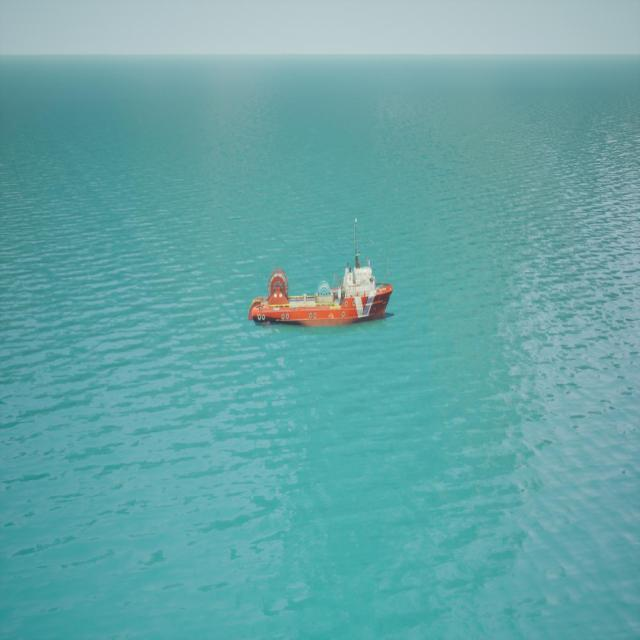tug boat: (249, 222, 396, 332)
